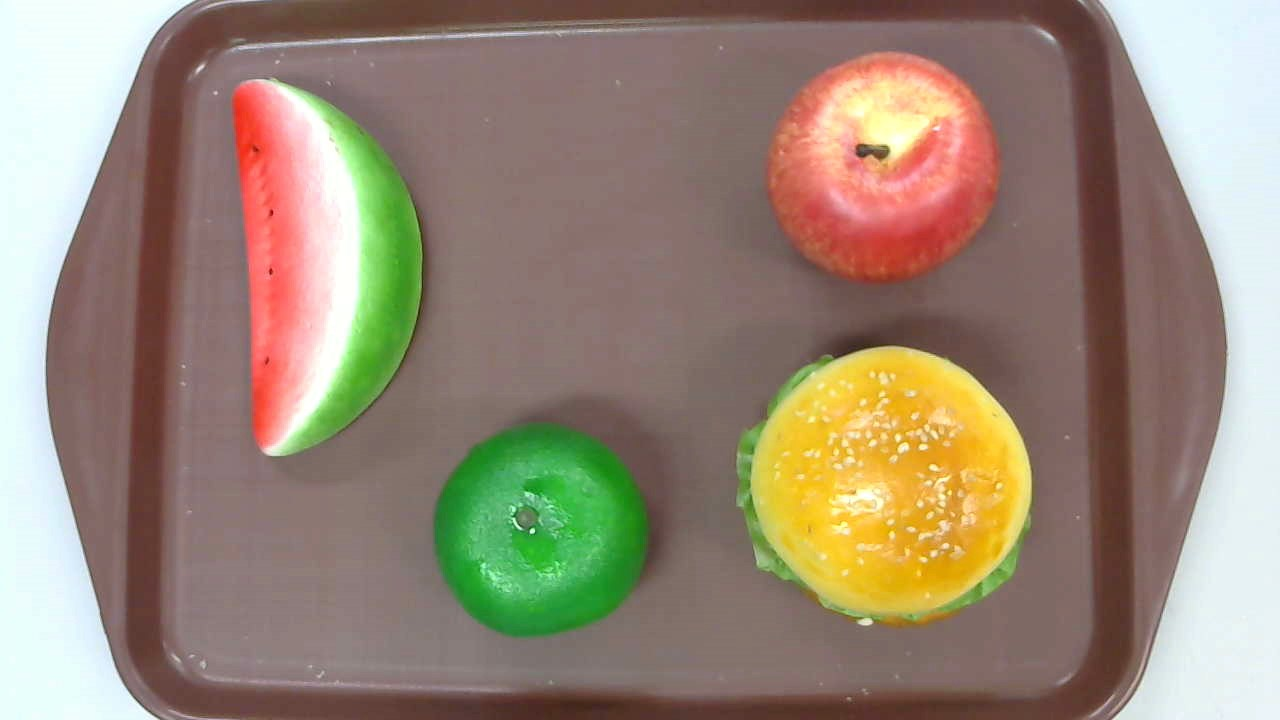green orange: (434, 422, 649, 640)
hamburger: (735, 345, 1032, 628)
red apple: (766, 51, 1003, 285)
water melon: (232, 78, 422, 460)
